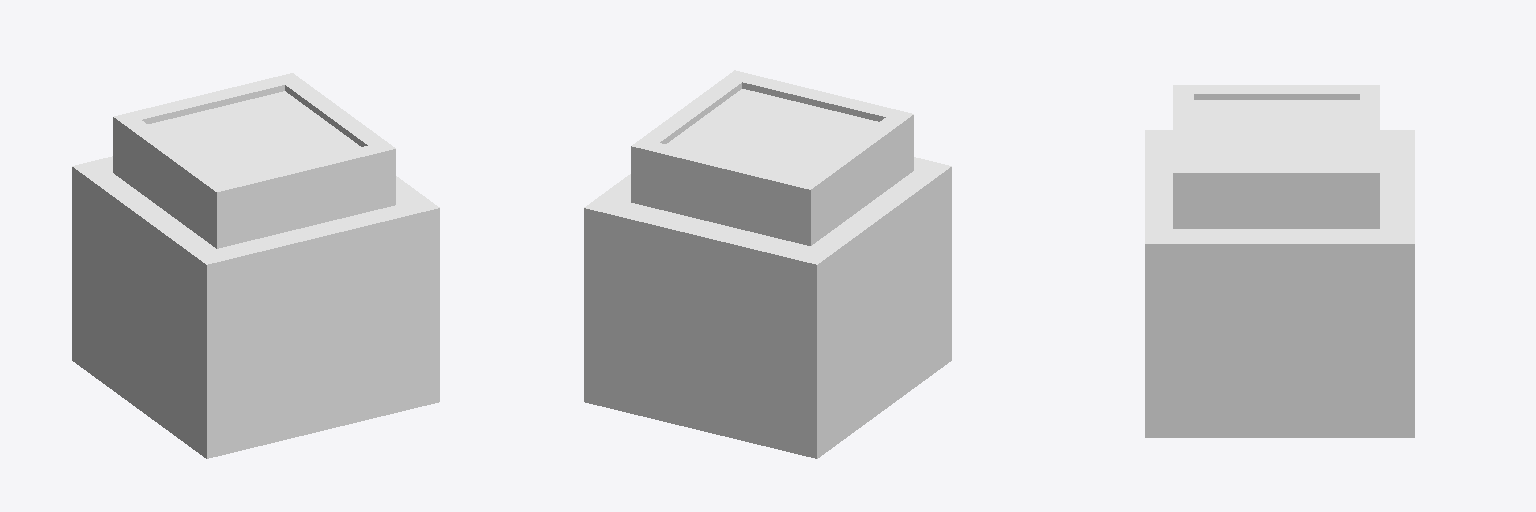
The picture shows the model from 3 angles: view 1: azimuth 30°, elevation 25°; view 2: azimuth 150°, elevation 25°; view 3: azimuth 270°, elevation 25°; orthographic projection.
Parts seen in each view (by area): view 1: object 1; view 2: object 1; view 3: object 1.
Part boxes in pixels (bbox=[...]): object 1: bbox=[72, 73, 439, 458]; object 1: bbox=[584, 70, 951, 458]; object 1: bbox=[1145, 85, 1414, 437].
Size of the model in its own units: 3.9 by 4 by 3.9.
Materials: 1 (1 with a texture image).